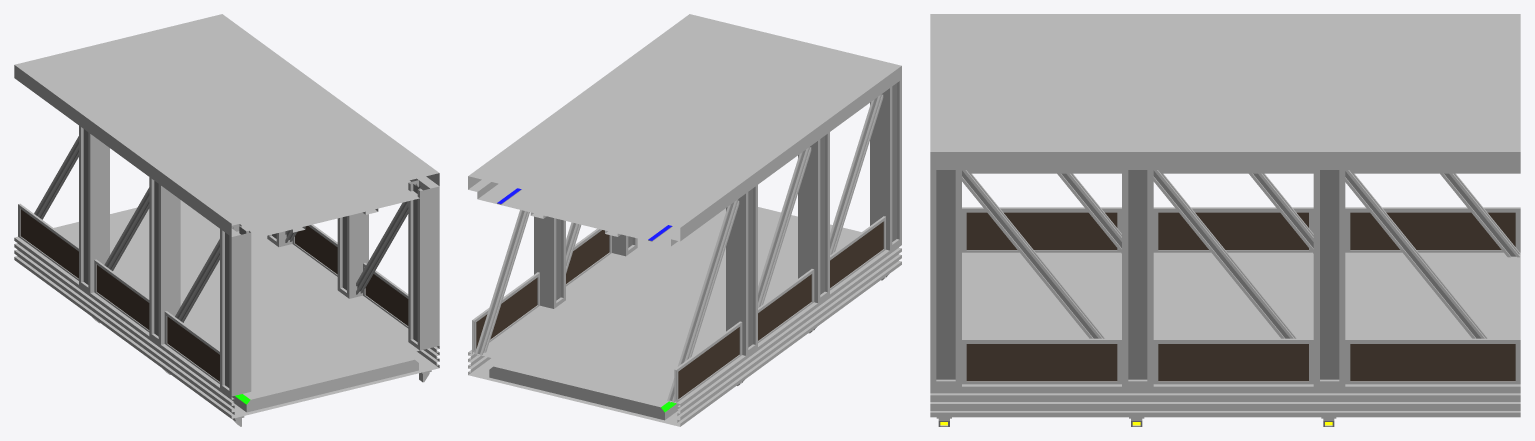
File: Building_09.FBX
The picture shows the model from 3 angles, left to right: view 1: azimuth 30°, elevation 25°; view 2: azimuth 150°, elevation 25°; view 3: azimuth 270°, elevation 25°; orthographic projection. The views are drawn at different scales.
Visible parts, largest first — view 1: Building_09_LOD0; view 2: Building_09_LOD0; view 3: Building_09_LOD0.
Part boxes in pixels (left/top/right/bottom): Building_09_LOD0: left=14, top=14, right=439, bottom=426; Building_09_LOD0: left=468, top=14, right=901, bottom=426; Building_09_LOD0: left=930, top=14, right=1520, bottom=426.
Size of what is drawn, in the model's own units: 159 by 152 by 287.
